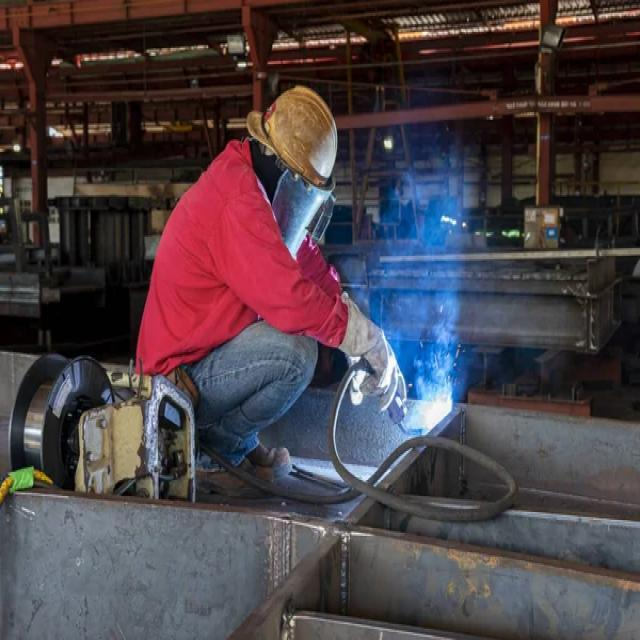welding: (420, 394, 450, 429)
